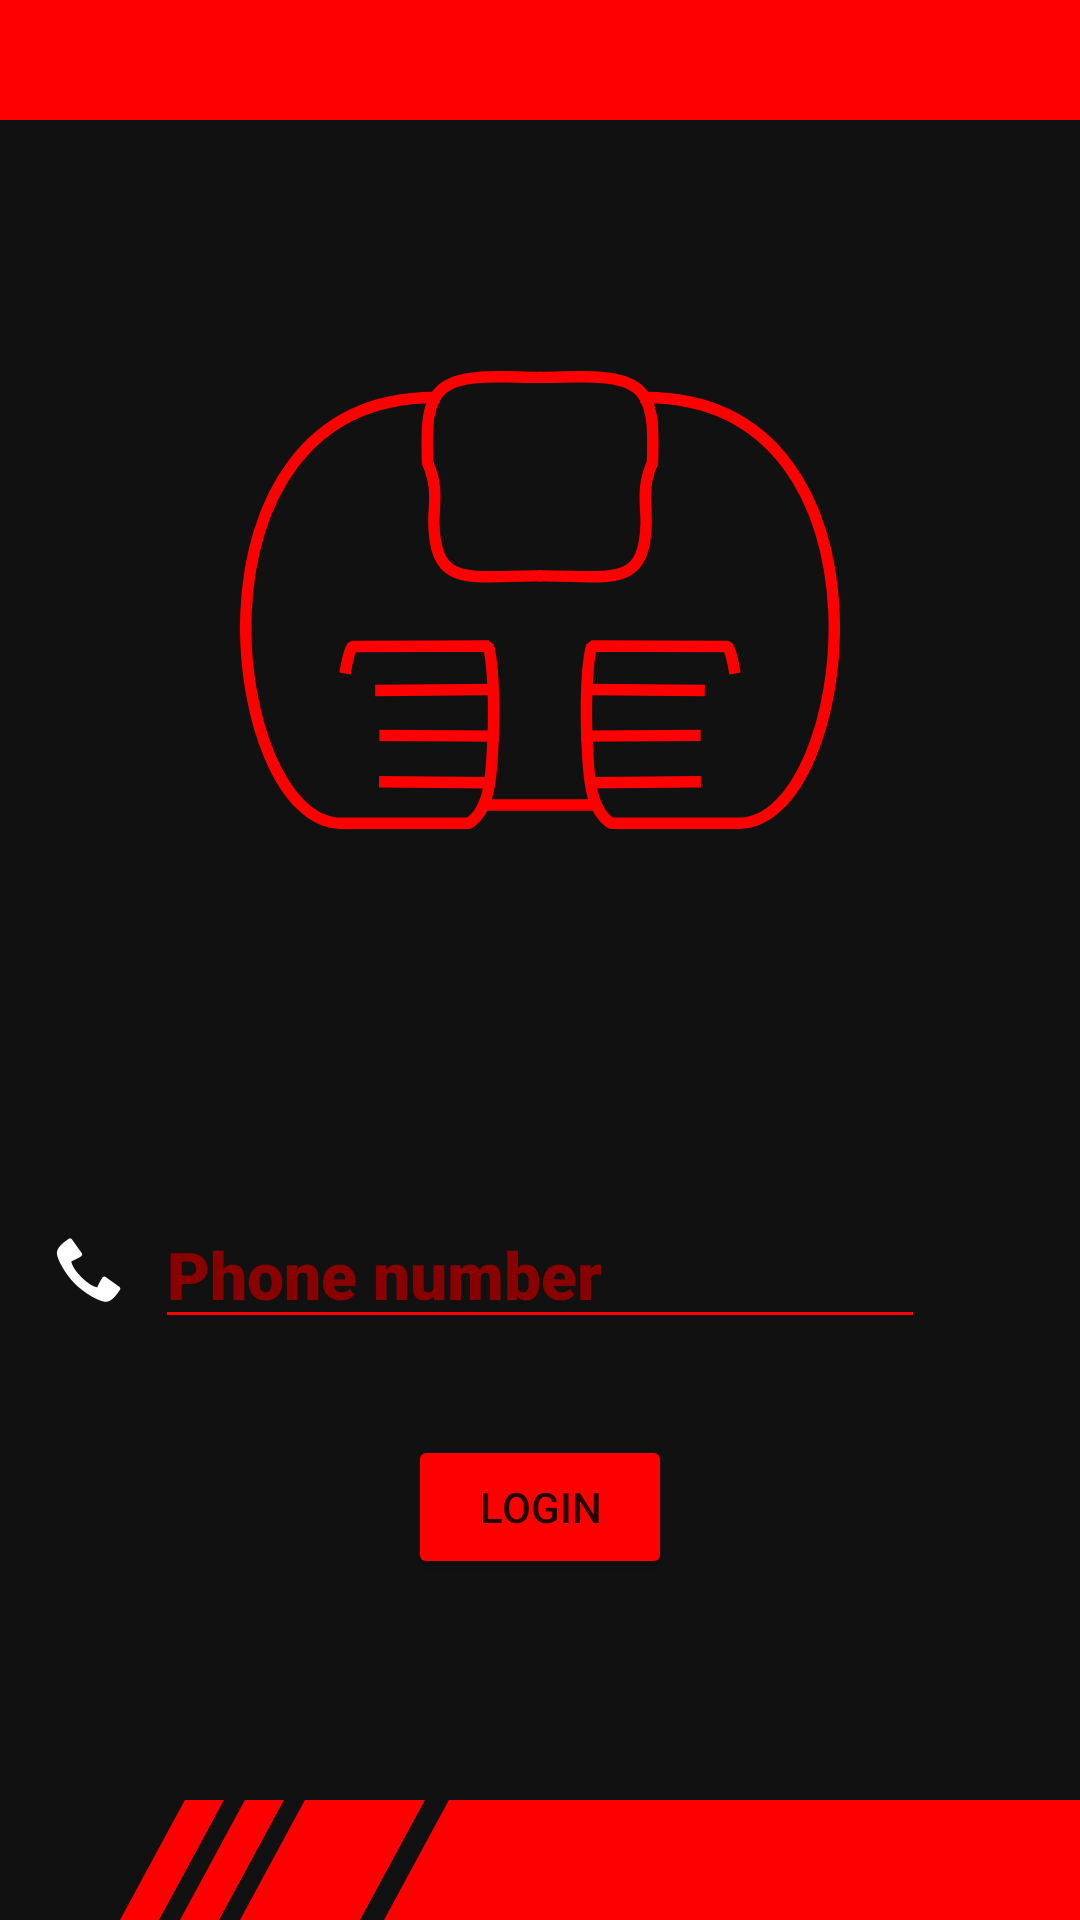

Screen size 1080w x 1920h. Icon name, then its box in pixels as (x1, y1, x2, y2):
phone call: (57, 1238, 121, 1302)
